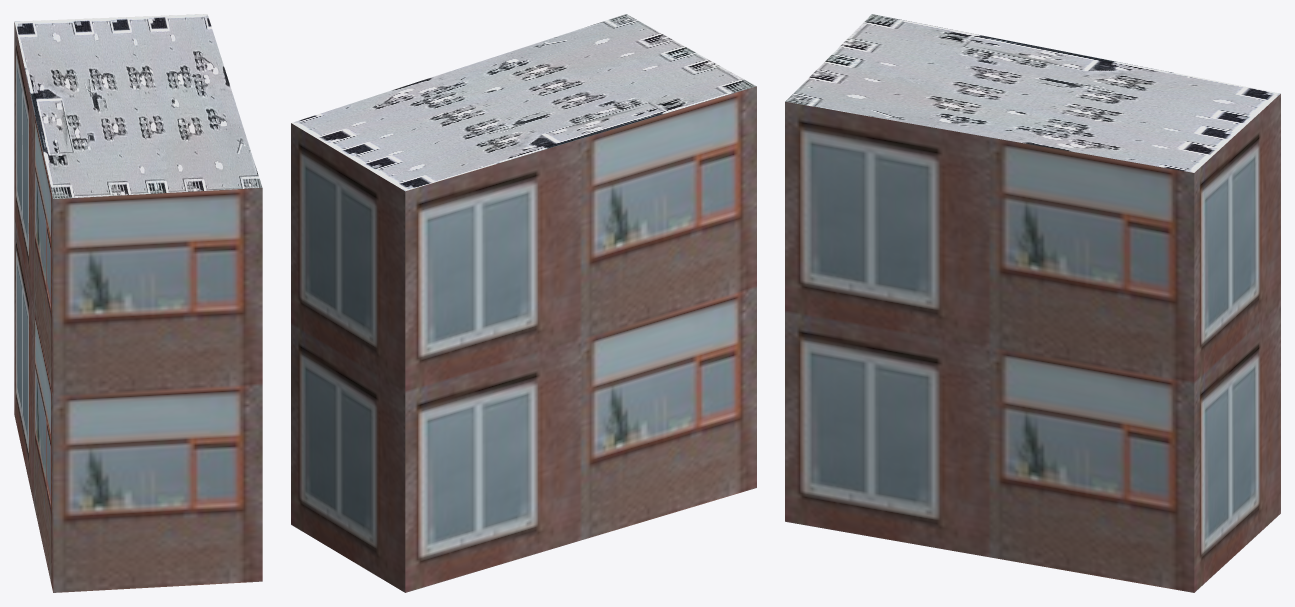
Rendered from ResTex__5285.fbx.
3 views of the same model, side by side, from view 1: azimuth 30°, elevation 25°; view 2: azimuth 150°, elevation 25°; view 3: azimuth 270°, elevation 25° (orthographic). The views are drawn at different scales.
Parts seen in each view (by area): view 1: CityEngineMaterial_19_m, CityEngineMaterial_15_m; view 2: CityEngineMaterial_19_m, CityEngineMaterial_15_m; view 3: CityEngineMaterial_19_m, CityEngineMaterial_15_m.
Part boxes in pixels (box(x1,y1,x2,y2)): CityEngineMaterial_19_m: box(14, 22, 262, 592); CityEngineMaterial_15_m: box(14, 14, 262, 198); CityEngineMaterial_19_m: box(291, 86, 756, 592); CityEngineMaterial_15_m: box(291, 14, 756, 191); CityEngineMaterial_19_m: box(785, 94, 1280, 592); CityEngineMaterial_15_m: box(785, 14, 1280, 172).
Size of the model in its own units: 4.87 by 6 by 6.42.
2 materials, 2 textured.
